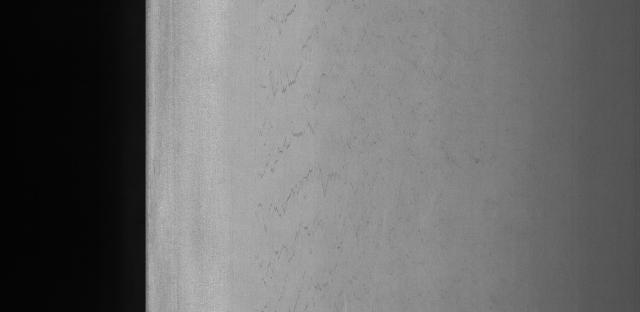silk_spot: (250, 13, 367, 227)
